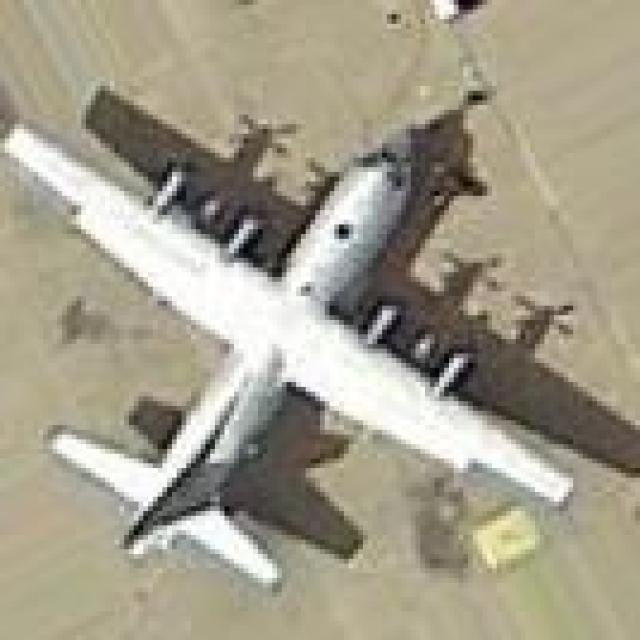C-130_TopDown: (0, 71, 640, 595)
